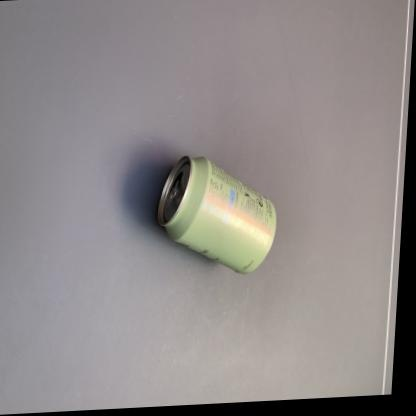trash: (157, 156, 275, 271)
